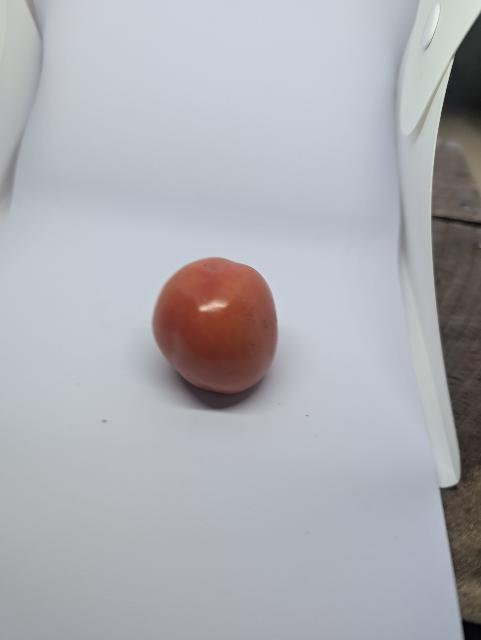red: (138, 247, 319, 447)
